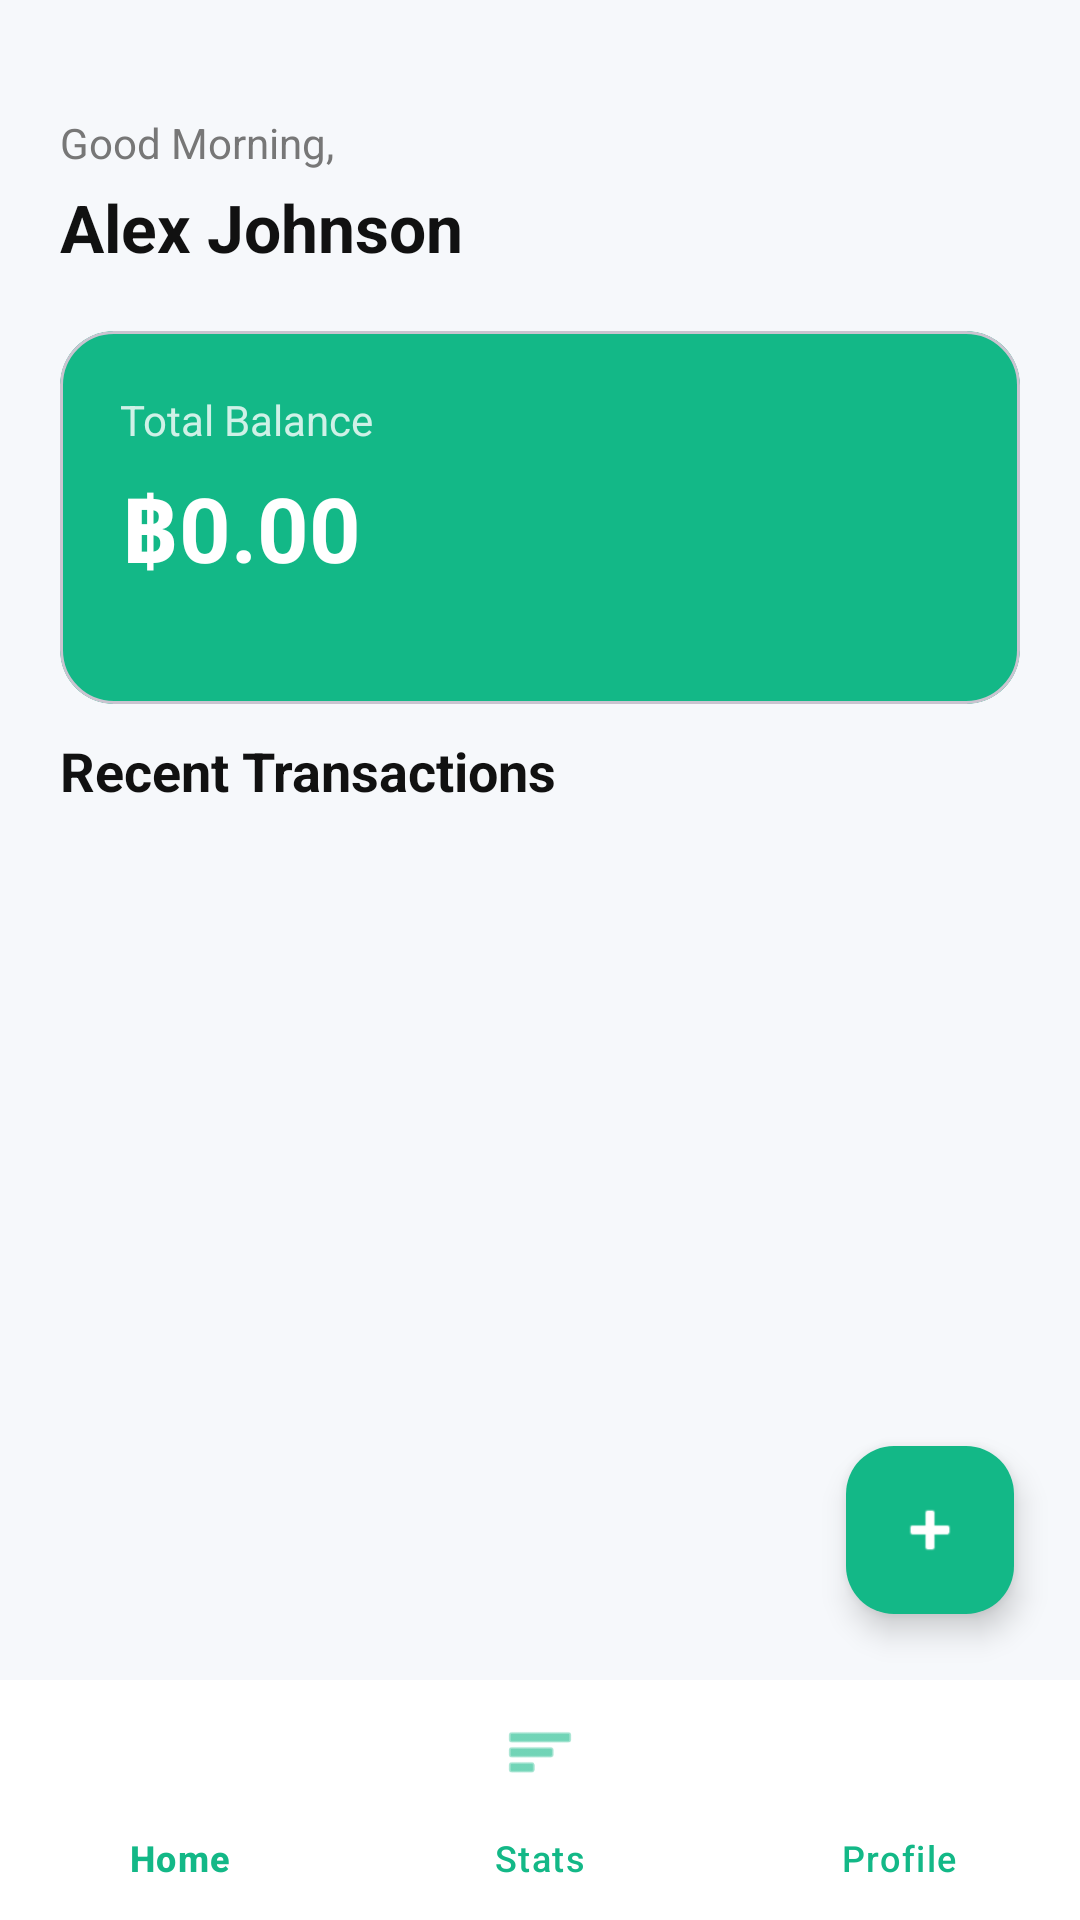

Screen size 1080*1920. Icon name, then its center in pixels as (x,y):
add: (930,1530)
